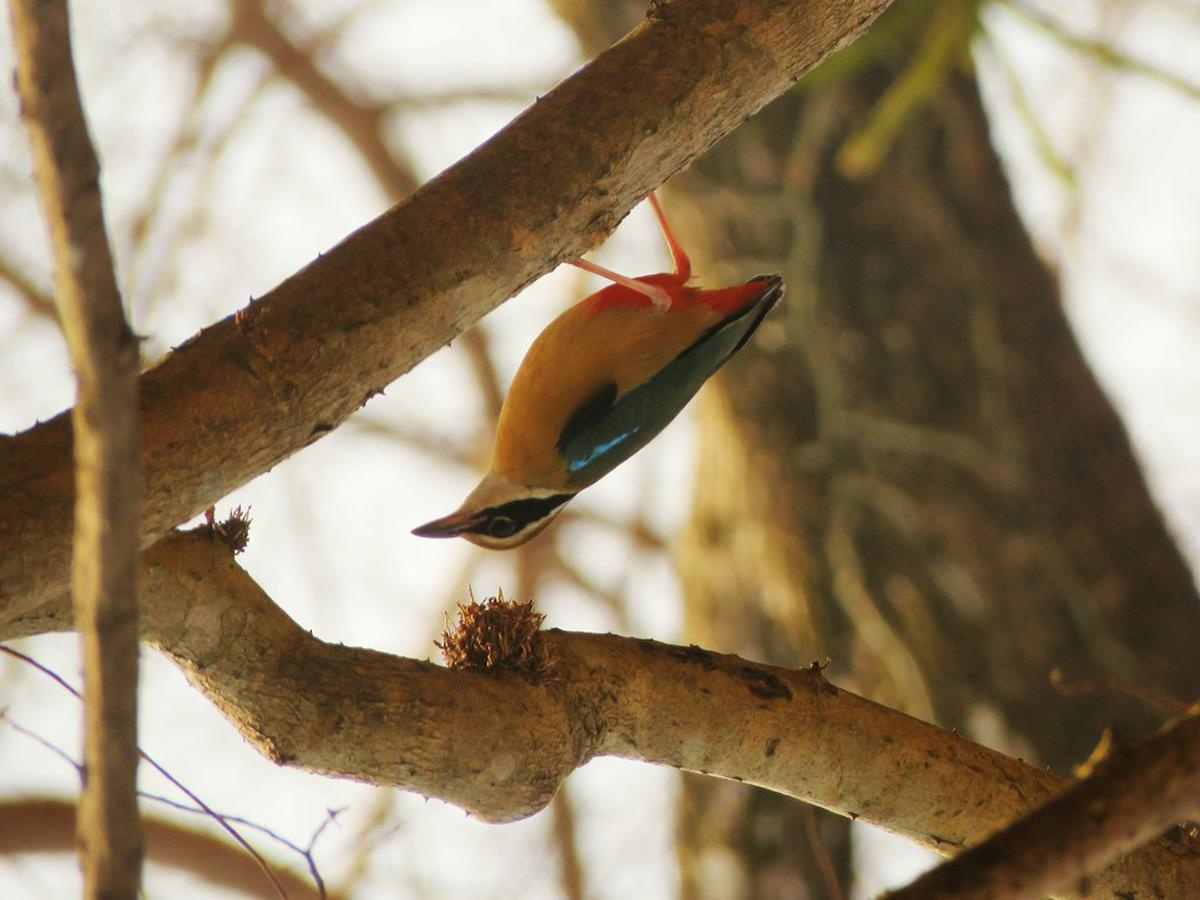pitta: (390, 151, 774, 576)
